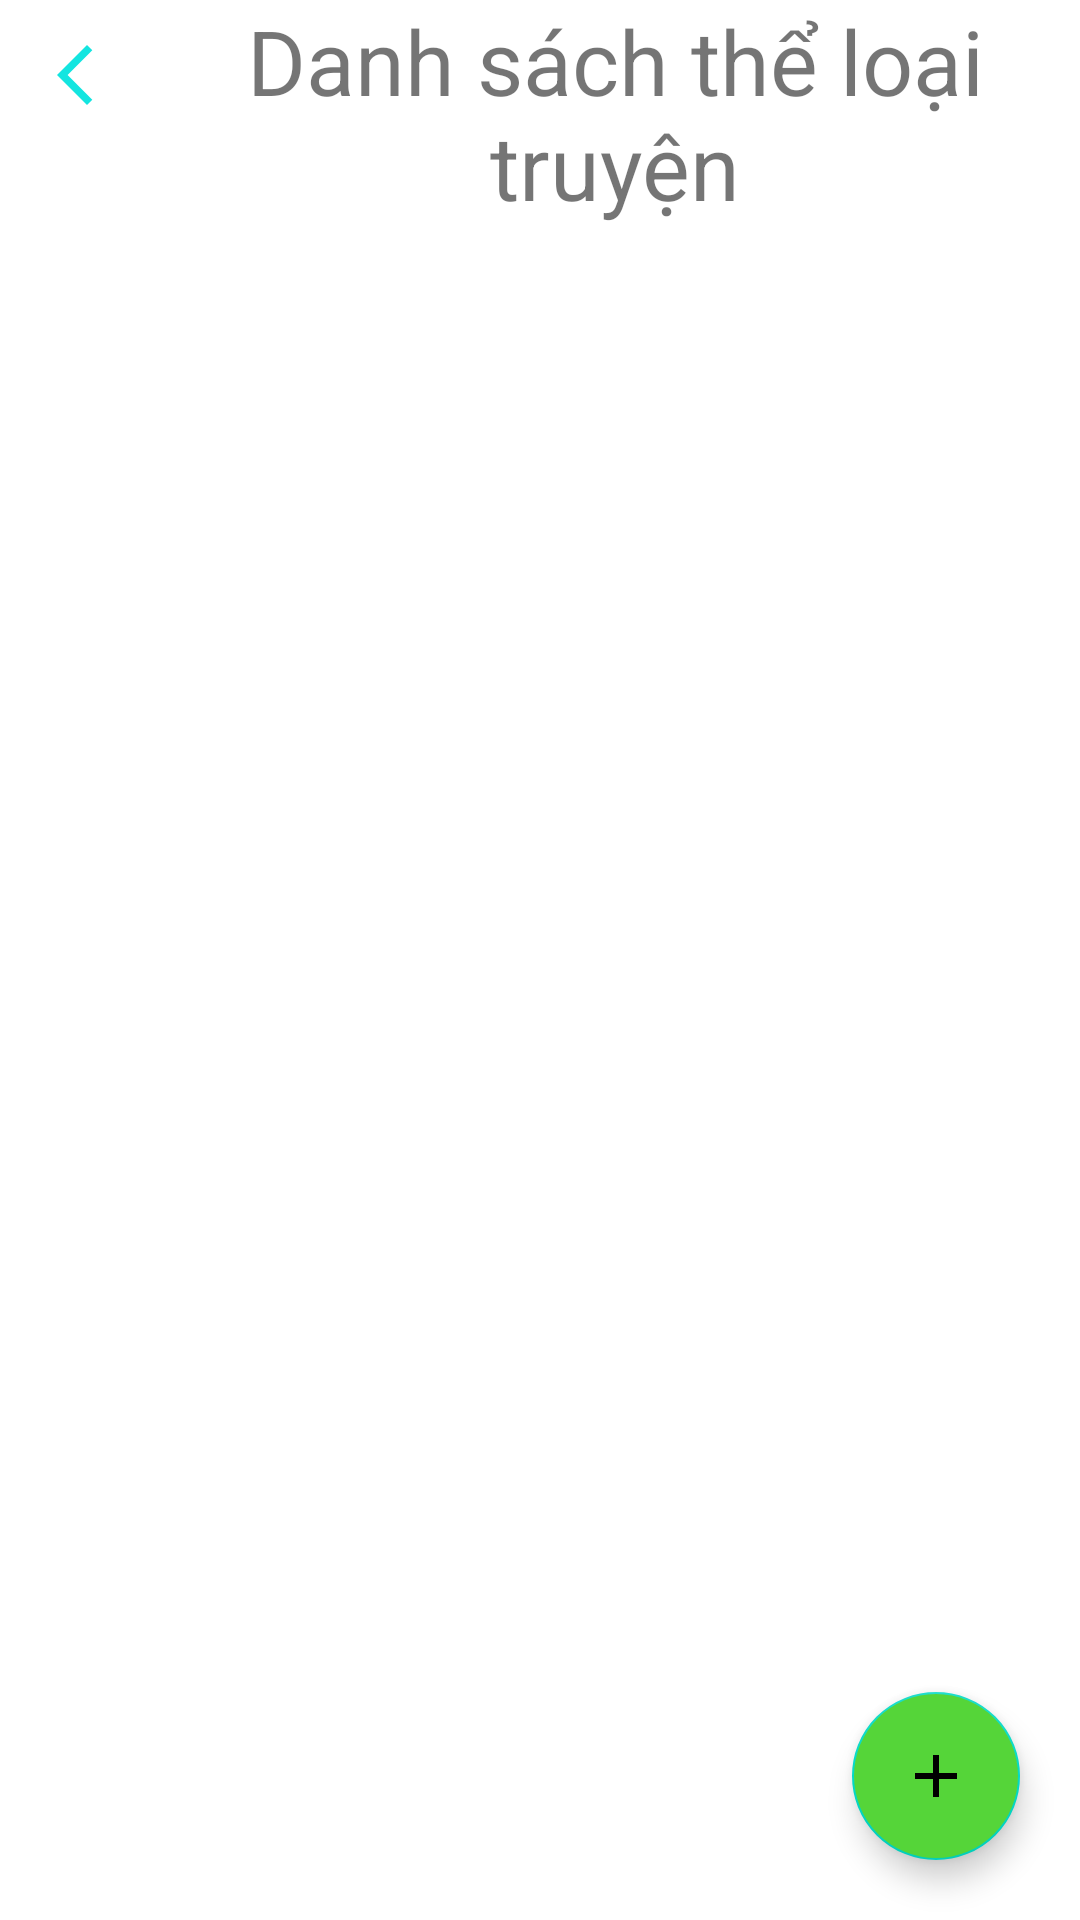

Icon bounding boxes for this 1080 × 1920 phone screenshot, format (left=x1, top=y1, right=x2, bottom=y2):
add Type: (left=852, top=1692, right=1020, bottom=1860)
arrow back: (left=57, top=45, right=92, bottom=105)
